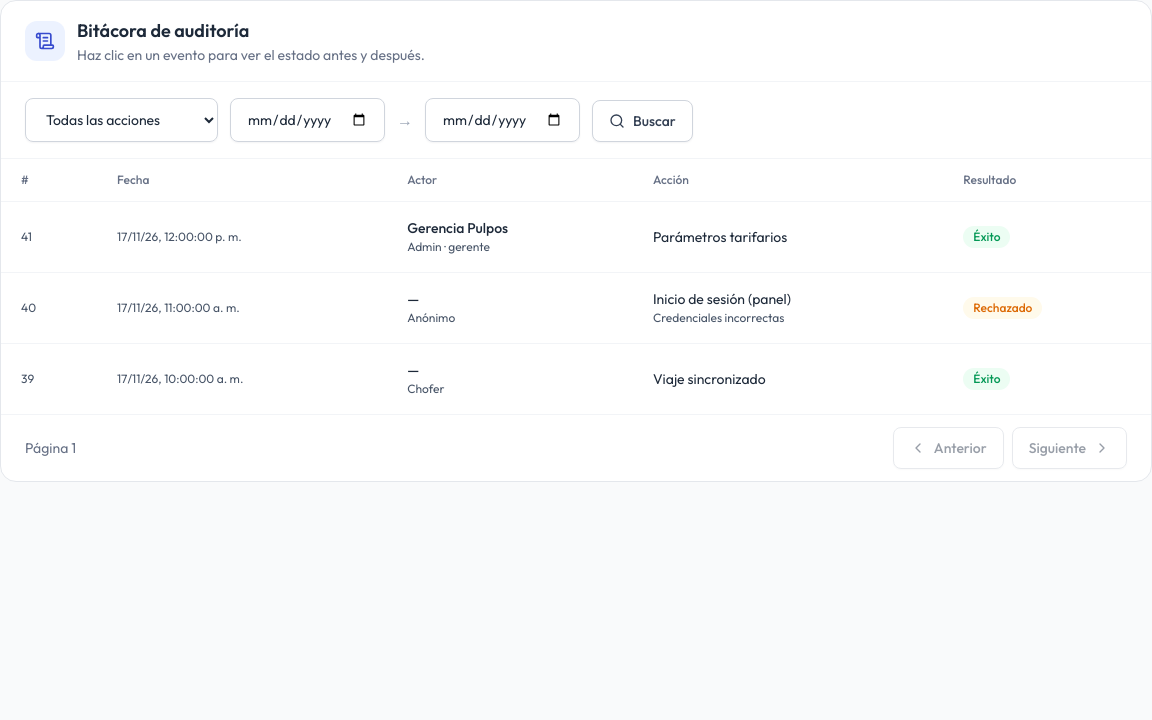
Auditoría › al abrir un evento muestra solo los campos que cambiaron
Click the text "Parámetros tarifarios".
click(720, 237)  # box [653,228,787,246]
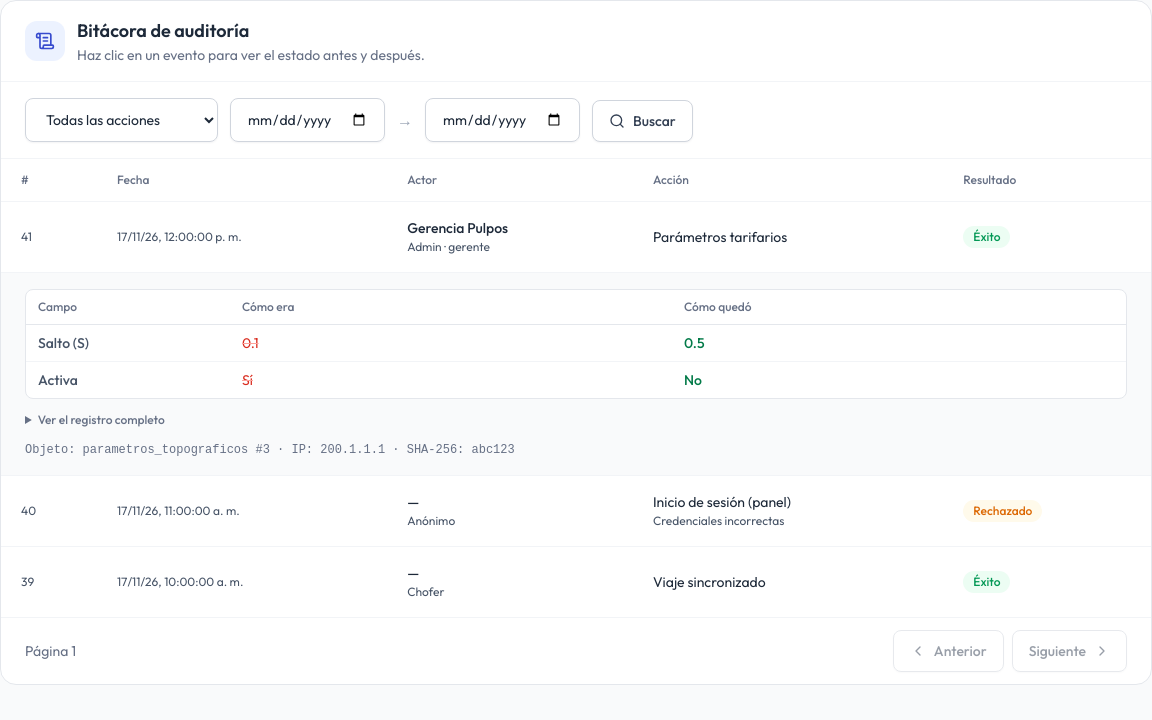
Expected: the text "0.1" is shown, [242,334,259,352]
Expected: the text "0.5" is shown, [684,334,704,352]
Expected: the text "Activa" reads "Activa Sí No", [38,371,702,389]
Click the text "Viaje sincronizado".
click(709, 582)  # box [653,573,766,591]
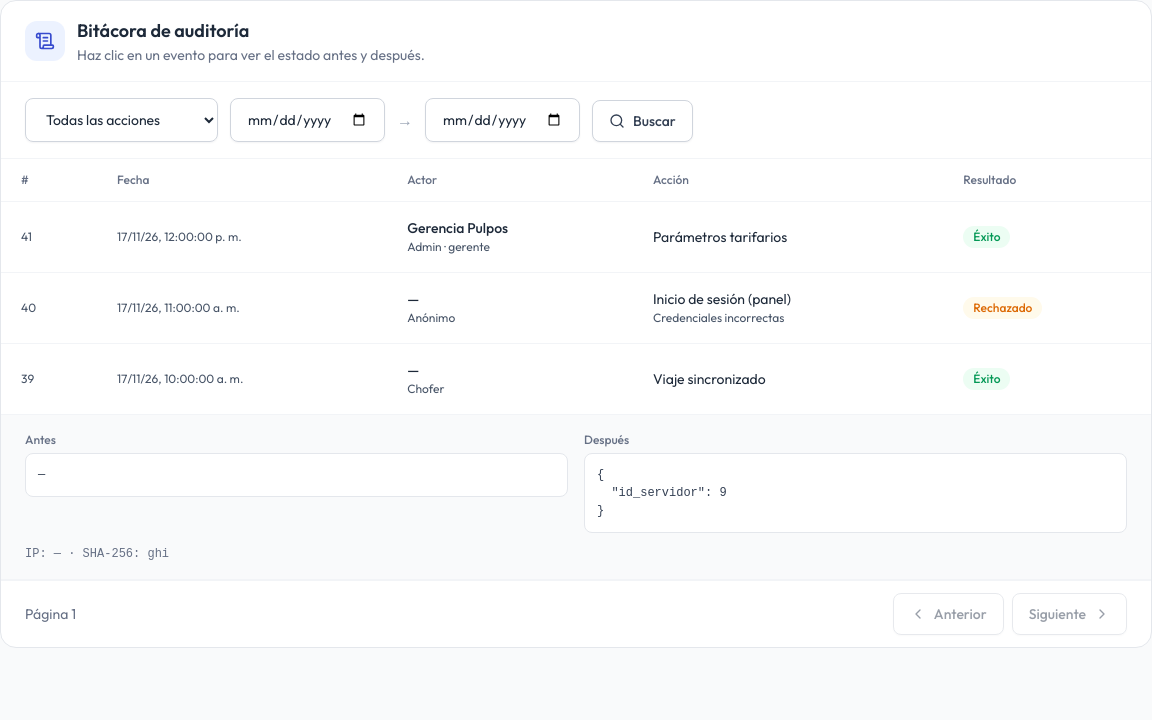
Expected: the text "Salto (S)" is gone
Expected: the text "Después" is shown, [584,432,629,447]
